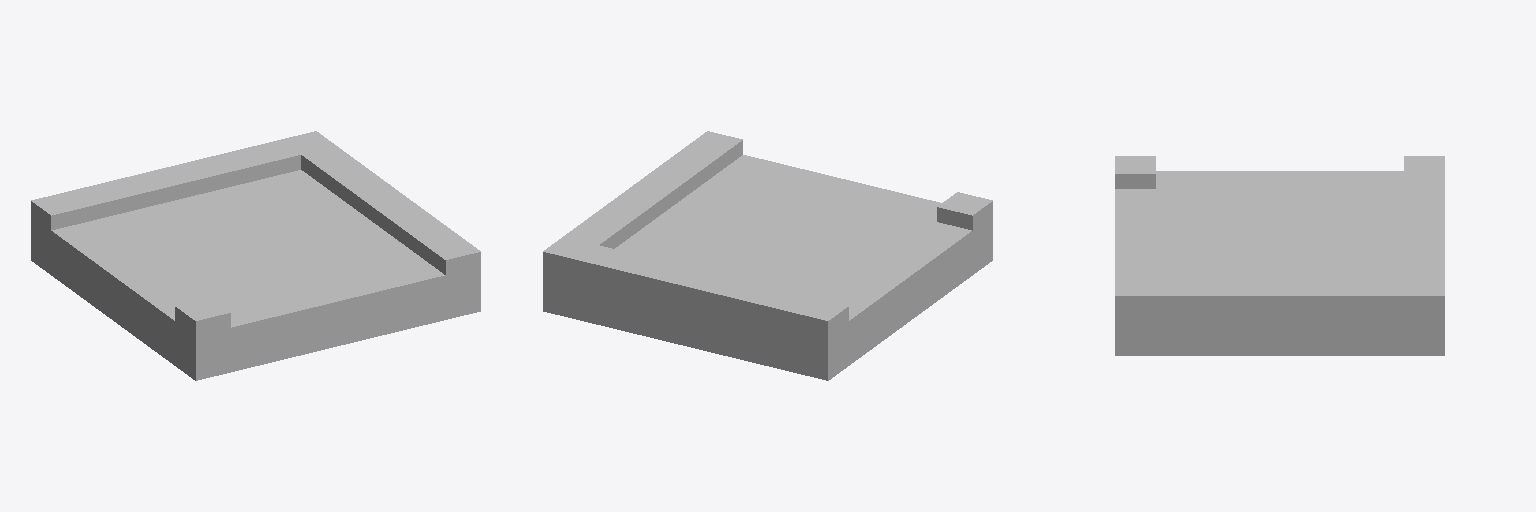
Rendered from CornerRU.obj.
The picture shows the model from 3 angles: view 1: azimuth 30°, elevation 25°; view 2: azimuth 150°, elevation 25°; view 3: azimuth 270°, elevation 25°; orthographic projection.
Parts seen in each view (by area): view 1: CornerRU; view 2: CornerRU; view 3: CornerRU.
Boxes of the visible parts, x1=… form: CornerRU: x1=31, y1=131, x2=480, y2=380; CornerRU: x1=543, y1=131, x2=992, y2=380; CornerRU: x1=1115, y1=156, x2=1444, y2=355.
Bounding box in the file's own units: 1 × 0.2 × 1.